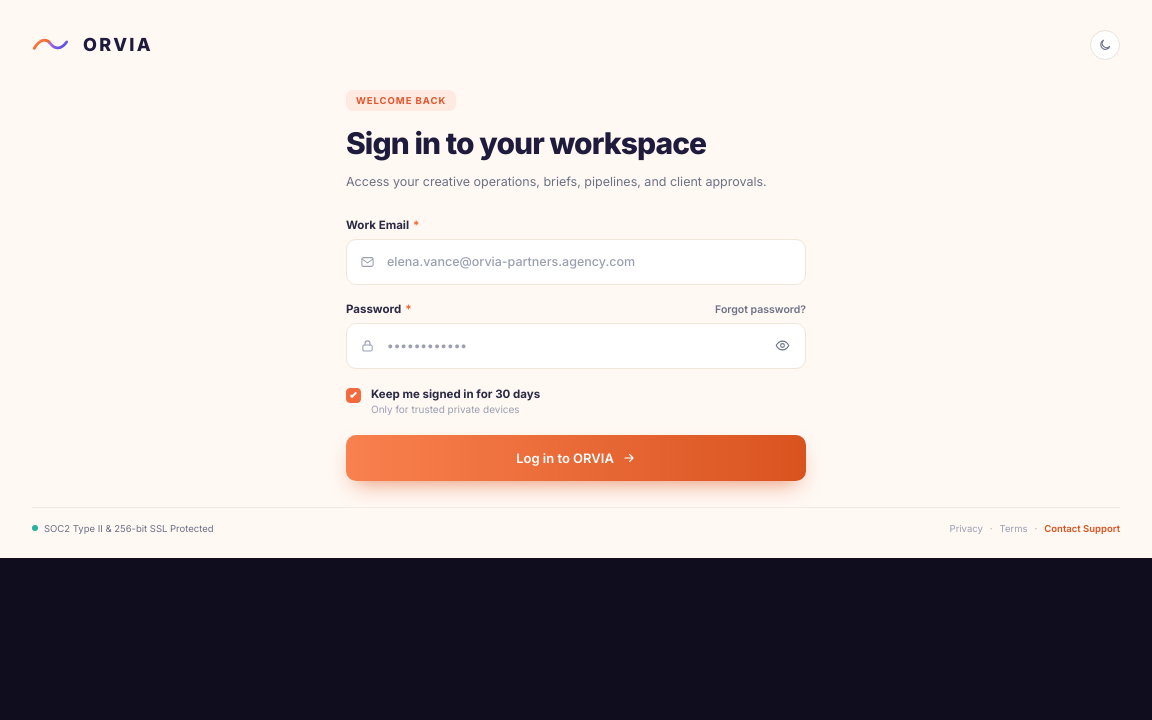
Test: LoginPage › shows the backend rejection message for invalid credentials
Type "wrong@orvia-creative.com" into the field labelled "Work Email" at (576, 262), box top-left (346, 239), bottom-right (806, 285)
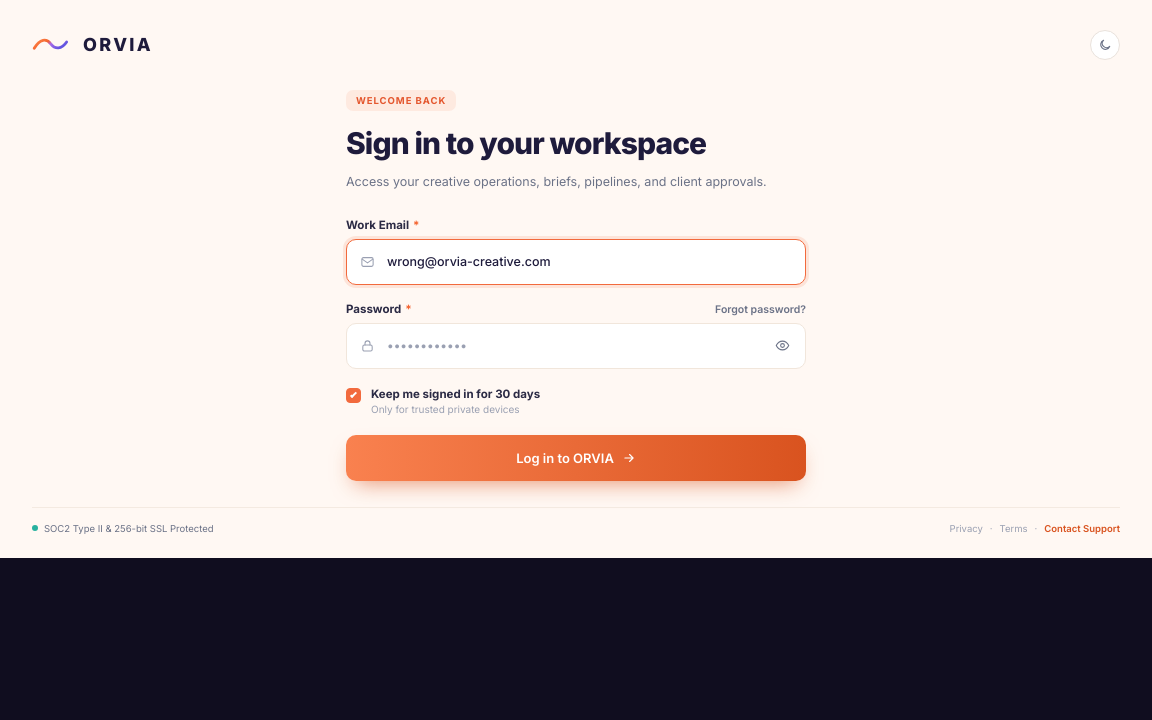
Type "nope" into the password field labelled "Password" at (576, 346), box top-left (346, 323), bottom-right (806, 369)
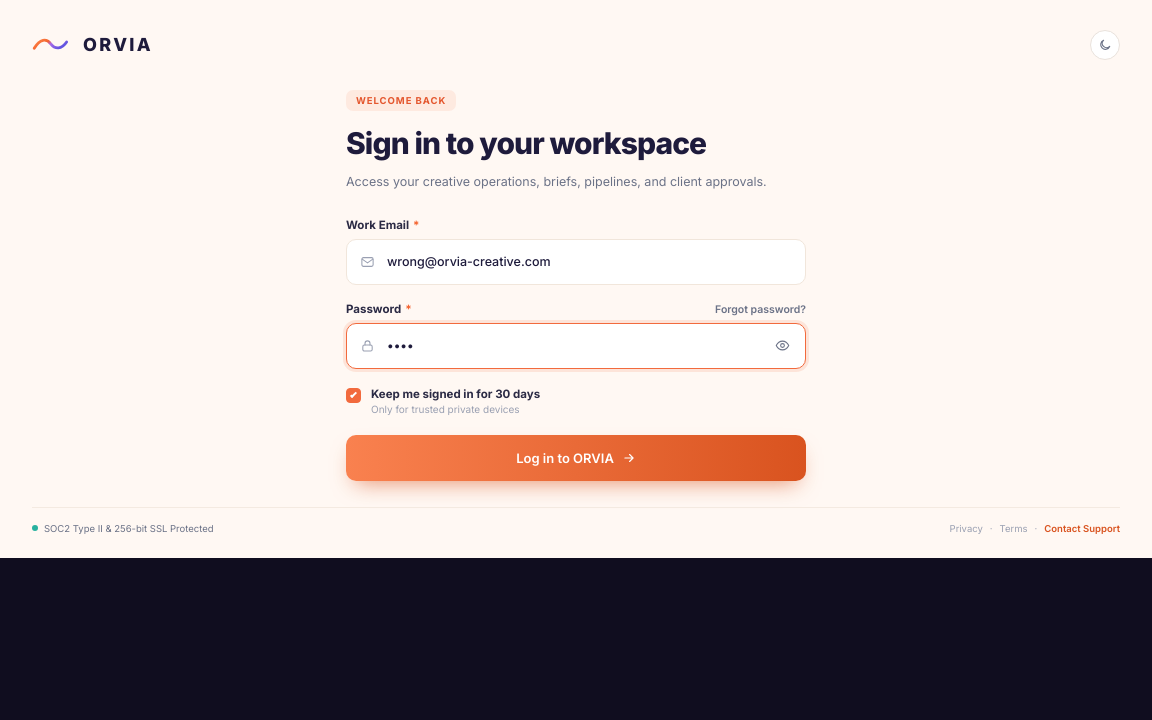
Click the button "Log in to ORVIA" at (576, 458), box top-left (346, 435), bottom-right (806, 481)
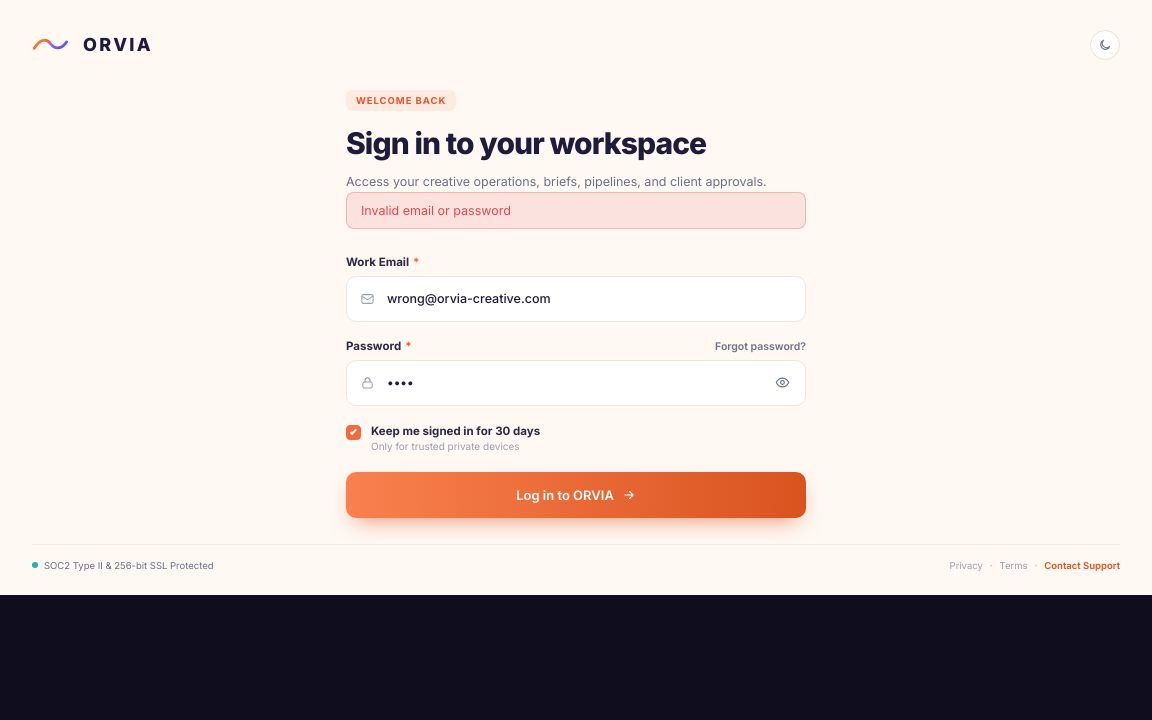
Expected: the message reads "Invalid email or password", top-left (361, 203), bottom-right (511, 218)
